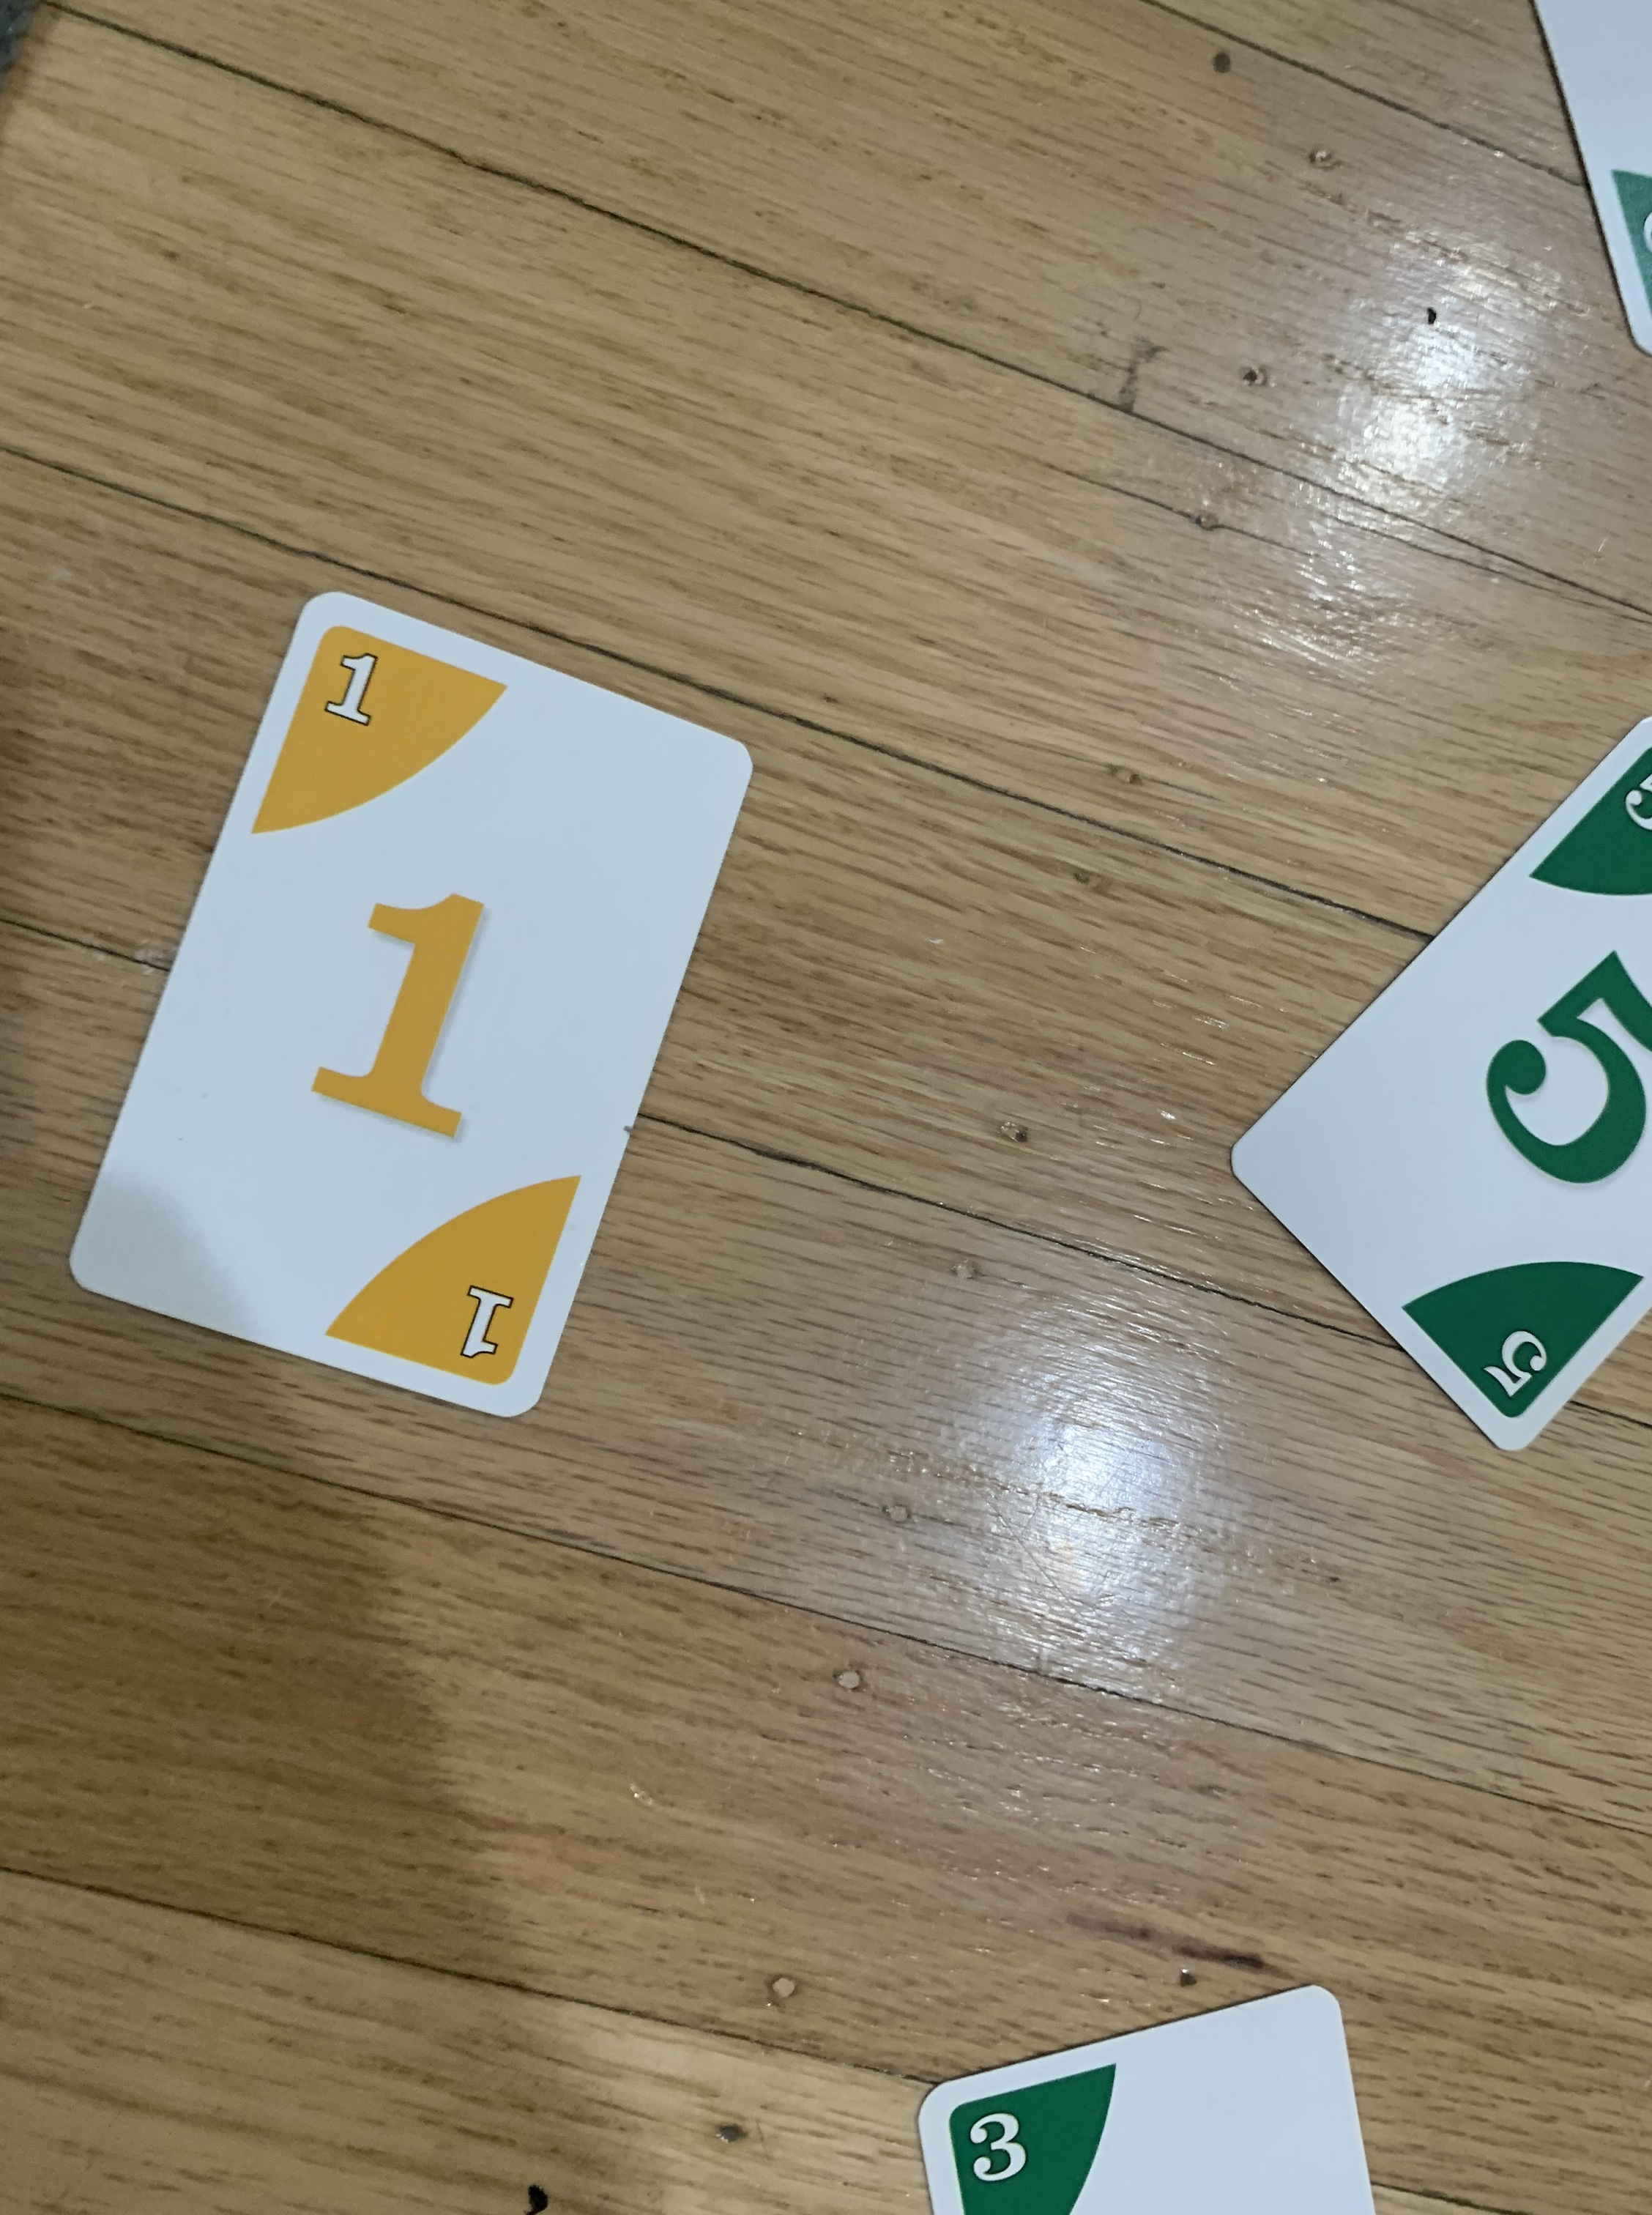five: (1222, 705, 1652, 1460)
one: (52, 590, 762, 1436)
